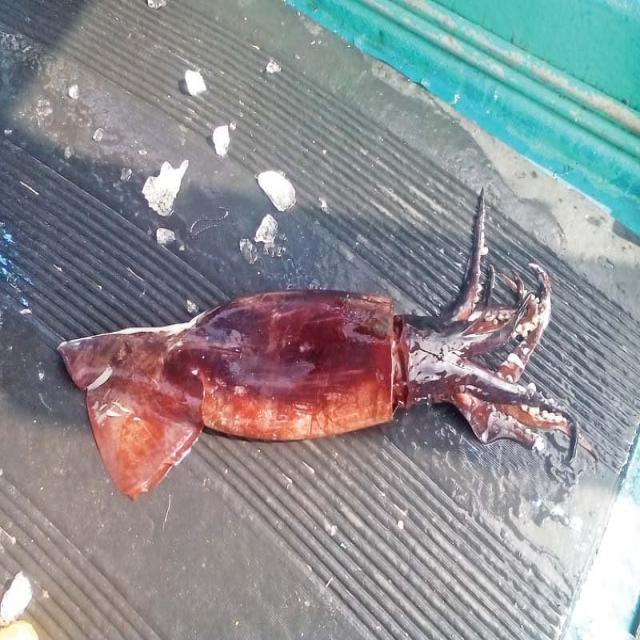SQUID: (43, 195, 593, 516)
